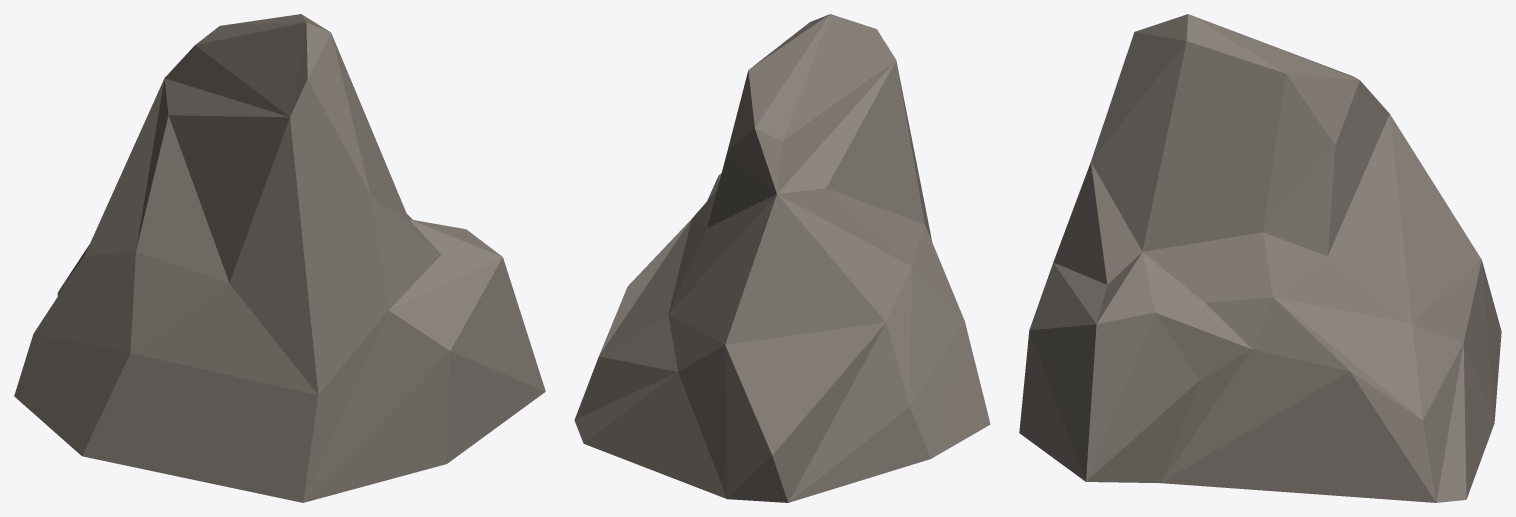
File: Env_Rock02.FBX
3 views of the same model, side by side, from view 1: azimuth 30°, elevation 25°; view 2: azimuth 150°, elevation 25°; view 3: azimuth 270°, elevation 25° (orthographic). The views are drawn at different scales.
Visible parts, largest first — view 1: Env_Rock02; view 2: Env_Rock02; view 3: Env_Rock02.
Part boxes in pixels (x1,y1,x2,y2): Env_Rock02: [14, 14, 545, 502]; Env_Rock02: [574, 14, 990, 502]; Env_Rock02: [1019, 14, 1501, 502].
Size of the model in its own units: 183 by 191 by 196.
Materials: 1 (1 with a texture image).
